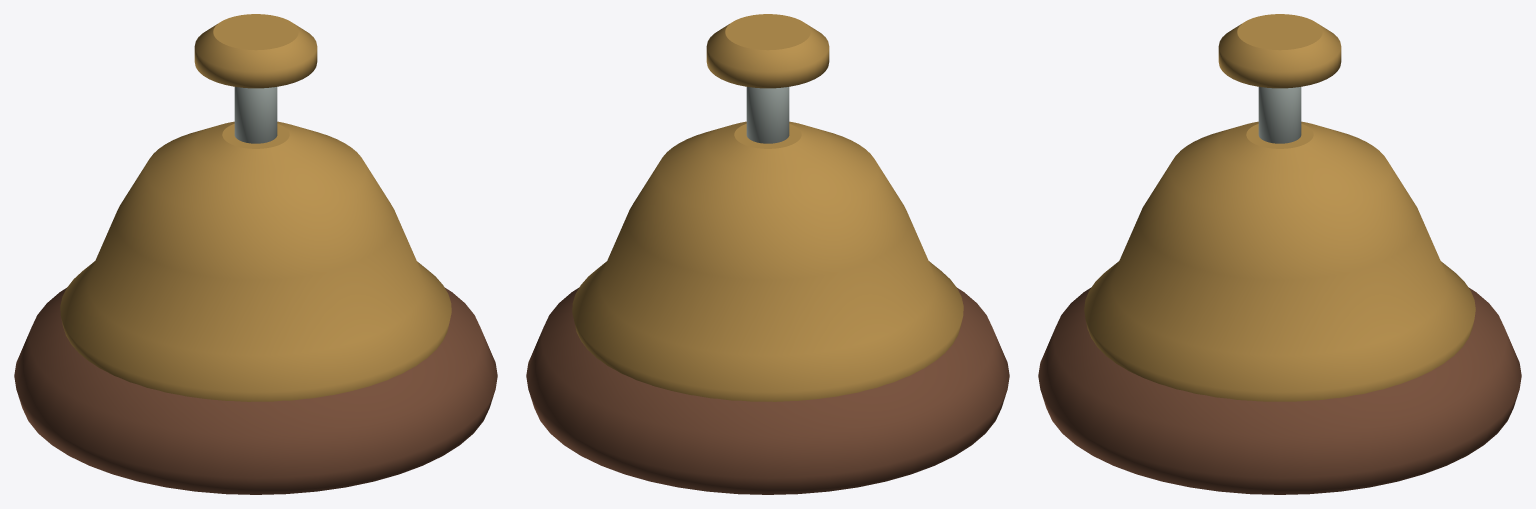
The model's file is ReceptionBell.fbx.
3 views of the same model, side by side, from view 1: azimuth 30°, elevation 25°; view 2: azimuth 150°, elevation 25°; view 3: azimuth 270°, elevation 25° (orthographic).
Parts seen in each view (by area): view 1: Cast brass bell, Turned walnut foot, Finger cap, Bell pin; view 2: Cast brass bell, Turned walnut foot, Finger cap, Bell pin; view 3: Cast brass bell, Turned walnut foot, Finger cap, Bell pin.
Boxes of the visible parts, box(x1,y1,x2,y2) form: Cast brass bell: box(60, 121, 451, 401); Turned walnut foot: box(14, 287, 497, 494); Finger cap: box(194, 14, 317, 88); Bell pin: box(234, 87, 277, 143); Cast brass bell: box(572, 121, 963, 401); Turned walnut foot: box(526, 287, 1009, 494); Finger cap: box(706, 14, 829, 88); Bell pin: box(746, 87, 789, 143); Cast brass bell: box(1084, 121, 1475, 401); Turned walnut foot: box(1038, 287, 1521, 494); Finger cap: box(1218, 14, 1341, 88); Bell pin: box(1258, 87, 1301, 143).
Bounding box in the file's own units: 0.158 × 0.136 × 0.158.
